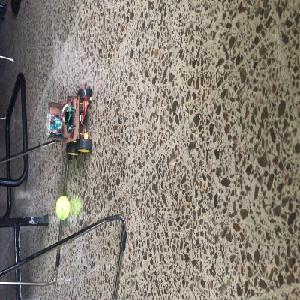Ball: (55, 196, 70, 219)
Robot: (47, 87, 92, 155)
